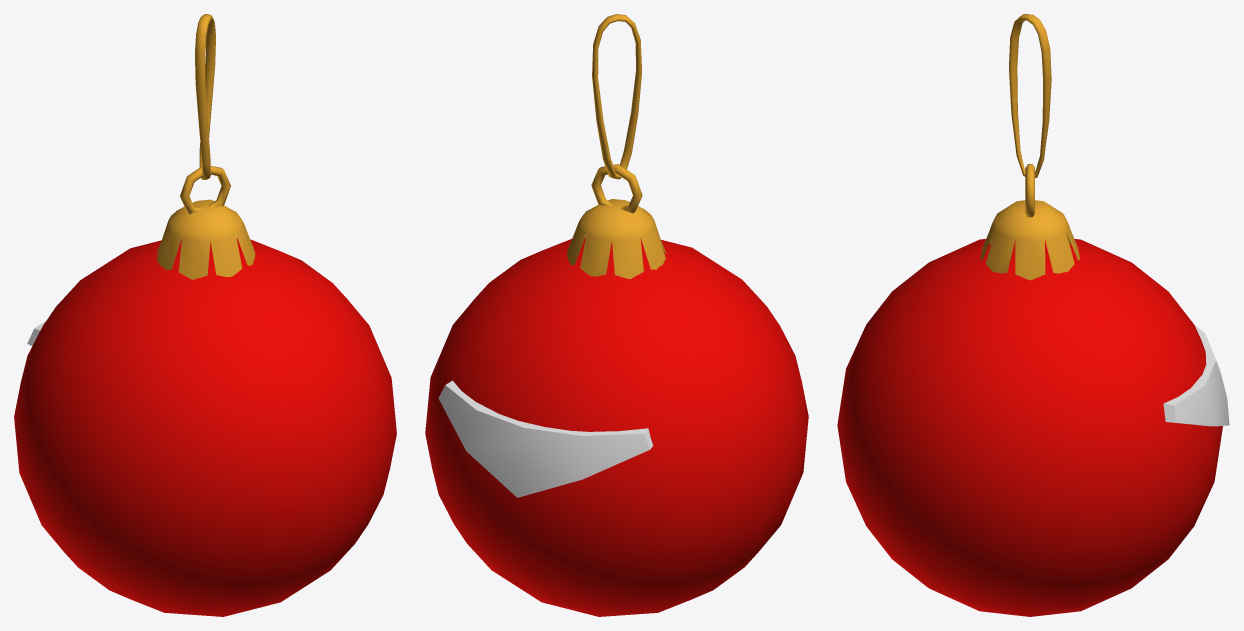
Rendered from Ball_1_RedArrow.fbx.
3 renders of one model, left to right at view 1: azimuth 30°, elevation 25°; view 2: azimuth 150°, elevation 25°; view 3: azimuth 270°, elevation 25°, orthographic.
Parts seen in each view (by area): view 1: Ball_1_RedArrow; view 2: Ball_1_RedArrow; view 3: Ball_1_RedArrow.
Part boxes in pixels (x1=…): Ball_1_RedArrow: x1=14, y1=14, x2=396, y2=616; Ball_1_RedArrow: x1=425, y1=14, x2=808, y2=616; Ball_1_RedArrow: x1=837, y1=14, x2=1229, y2=616.
Bounding box in the file's own units: 6 × 10.04 × 6.1.
